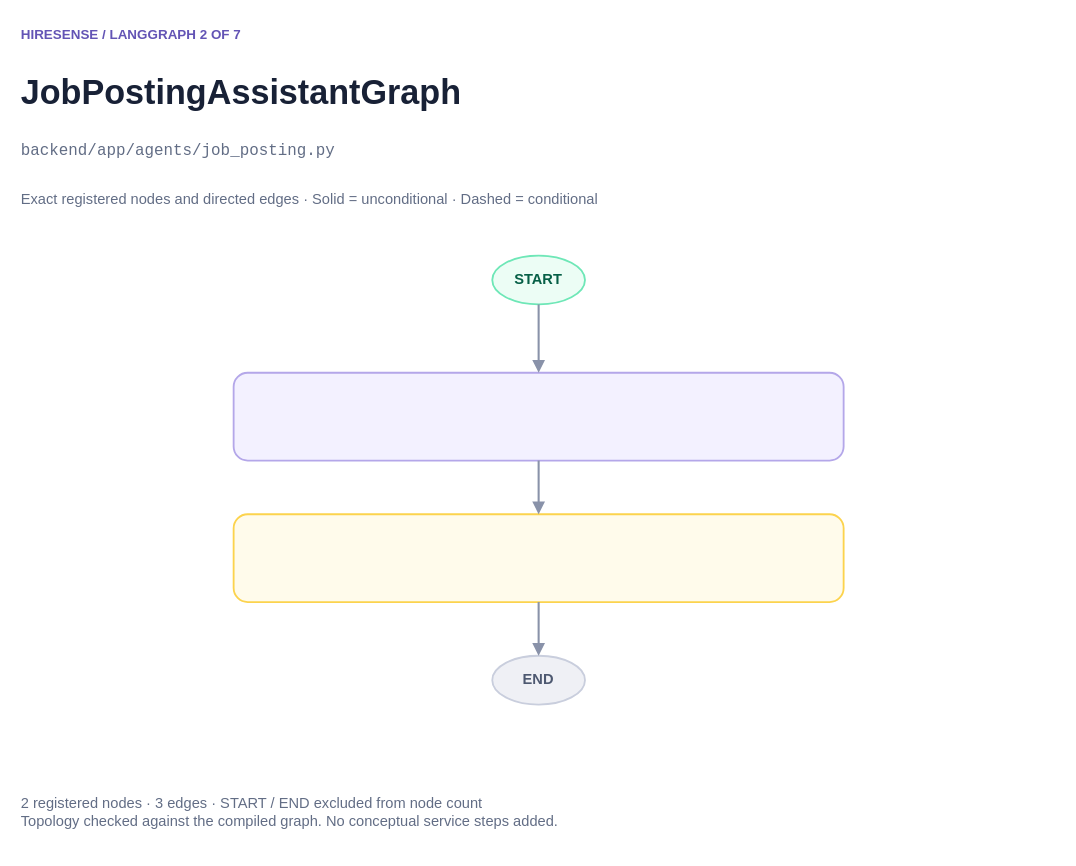
This 1076x866 diagram has some shape labels left out. Each missing label, with the box of its shape:
interpret_message: (232, 371, 844, 461)
validate_details: (232, 513, 844, 602)
